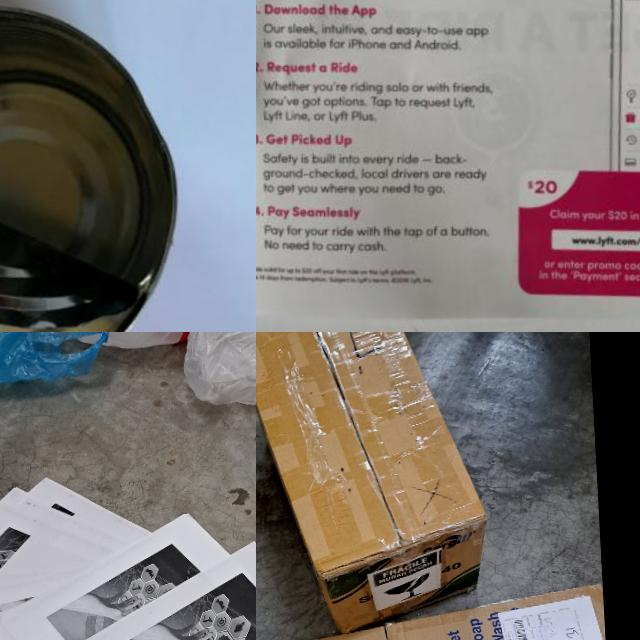lata: (0, 0, 189, 332)
papel: (256, 0, 640, 332), (0, 452, 256, 640)
papelão: (256, 332, 492, 640)
sacola plástica: (0, 332, 256, 421)
